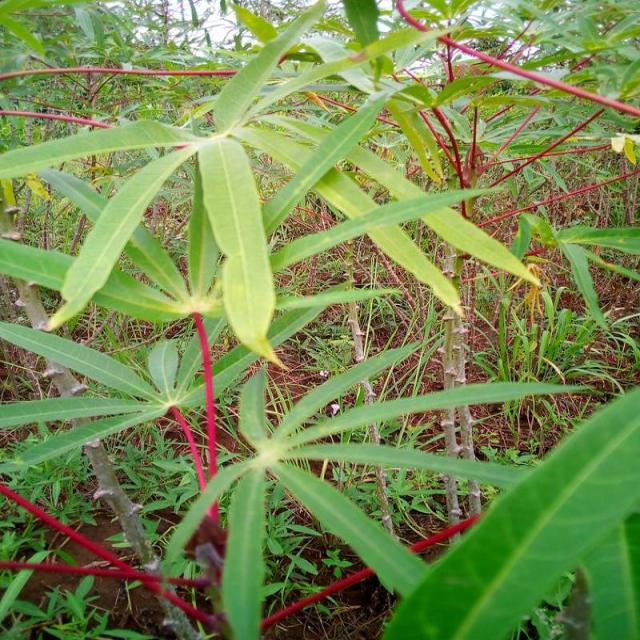cassava leaf: (381, 385, 638, 638), (196, 133, 287, 370)
